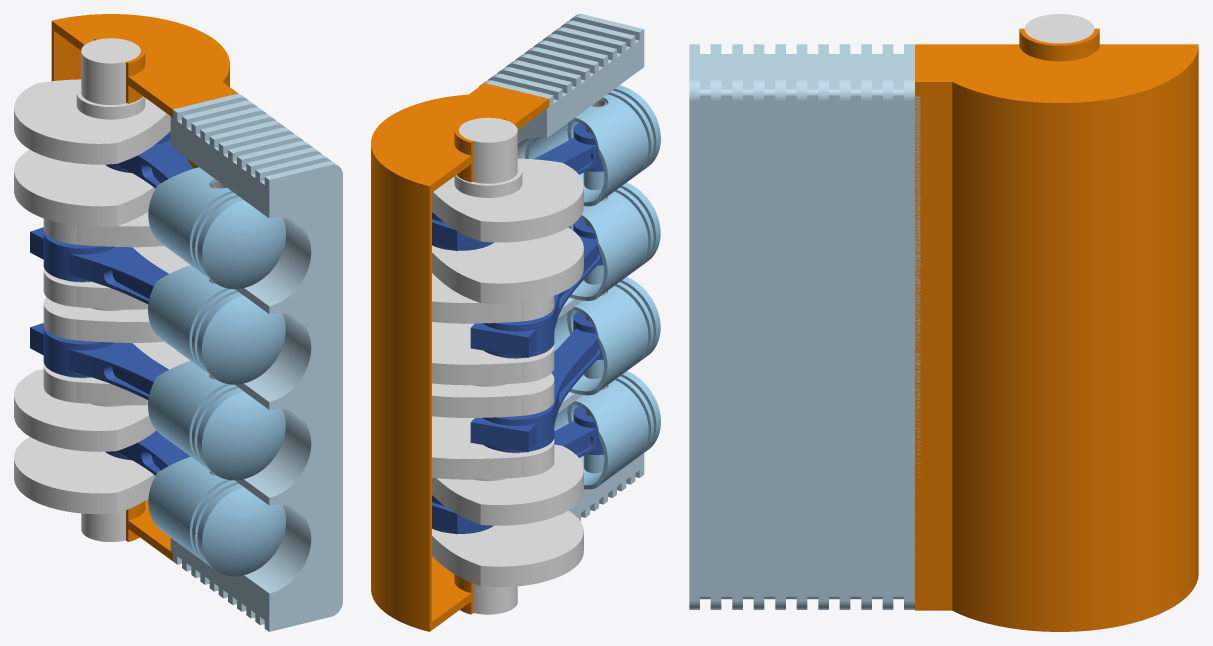
The model's file is EngineAssembly.obj.
The picture shows the model from 3 angles, left to right: view 1: azimuth 30°, elevation 25°; view 2: azimuth 150°, elevation 25°; view 3: azimuth 270°, elevation 25°; orthographic projection. The views are drawn at different scales.
Parts seen in each view (by area): view 1: mesh53, mesh191, mesh44, mesh20, mesh254, mesh264, mesh205, mesh247, mesh212, mesh188, mesh270, mesh262 (+41 smaller); view 2: mesh7, mesh44, mesh20, mesh254, mesh205, mesh247, mesh212, mesh266, mesh188, mesh262, mesh264, mesh33 (+44 smaller); view 3: mesh7, mesh6, mesh20, mesh74, mesh92, mesh98, mesh116, mesh122, mesh140, mesh146, mesh164, mesh170 (+15 smaller).
Boxes of the visible parts, x1,y1,x2,y2 form: mesh53: (202,200,285,576); mesh191: (269,164,342,631); mesh44: (148,167,231,559); mesh20: (52,14,237,109); mesh254: (14,79,166,143); mesh264: (70,140,192,465); mesh205: (14,436,153,493); mesh247: (14,149,153,206); mesh212: (14,369,148,430); mesh188: (170,110,269,217); mesh270: (68,155,168,475); mesh262: (43,133,170,460); mesh7: (371,146,429,631); mesh44: (575,94,648,485); mesh20: (371,83,548,186); mesh254: (433,158,583,221); mesh205: (432,510,583,566); mesh247: (432,227,583,283); mesh212: (437,444,583,504); mesh266: (432,222,528,533); mesh188: (547,29,644,137); mesh262: (432,212,554,533); mesh264: (533,138,597,445); mesh33: (528,123,601,485); mesh7: (952,47,1198,631); mesh6: (915,82,952,610); mesh20: (915,44,1198,103); mesh74: (882,101,893,600); mesh92: (850,96,861,595); mesh98: (839,101,850,600); mesh116: (807,96,818,595); mesh122: (796,101,807,600); mesh140: (764,96,775,595); mesh146: (753,101,764,600); mesh164: (721,96,732,595); mesh170: (710,101,721,600).
Size of the model in its own units: 0.237 by 0.575 by 0.4741.
